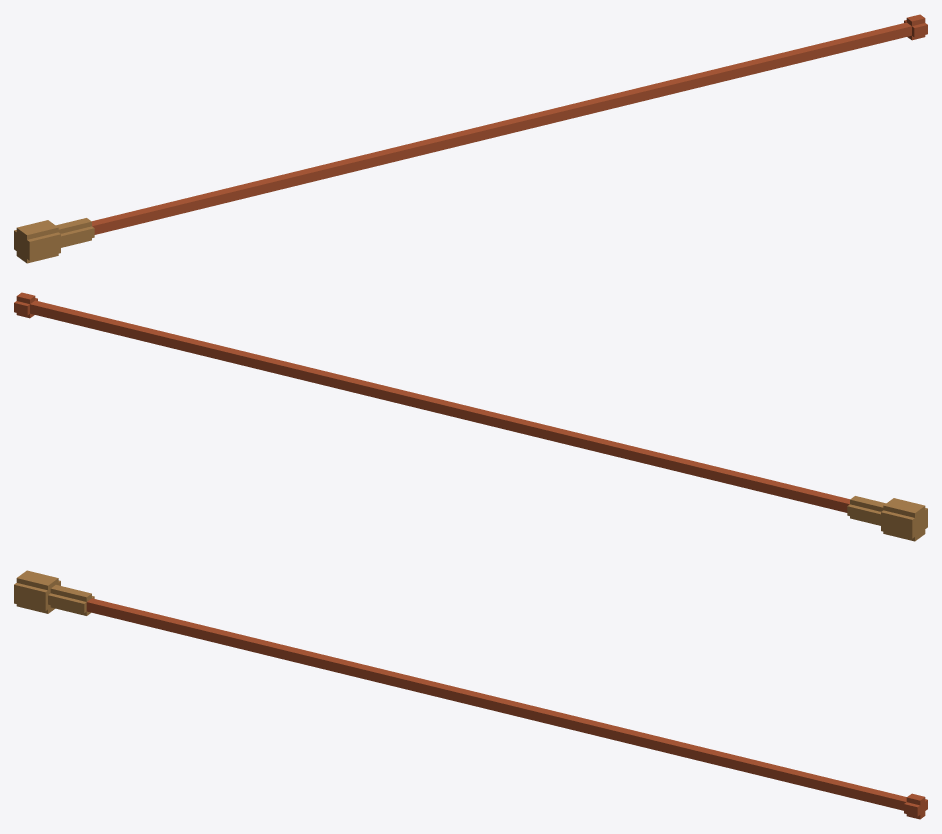
Rendered from antenna.glb.
3 renders of one model, top to bottom at view 1: azimuth 30°, elevation 25°; view 2: azimuth 150°, elevation 25°; view 3: azimuth 330°, elevation 25°, orthographic.
Parts seen in each view (by area): view 1: antenna:compound; view 2: antenna:compound; view 3: antenna:compound.
Boxes of the visible parts, bbox=[...] form: antenna:compound: bbox=[14, 14, 927, 263]; antenna:compound: bbox=[14, 292, 927, 541]; antenna:compound: bbox=[14, 570, 927, 819].
Size of the model in its own units: 0.4 by 0.012 by 0.012.
